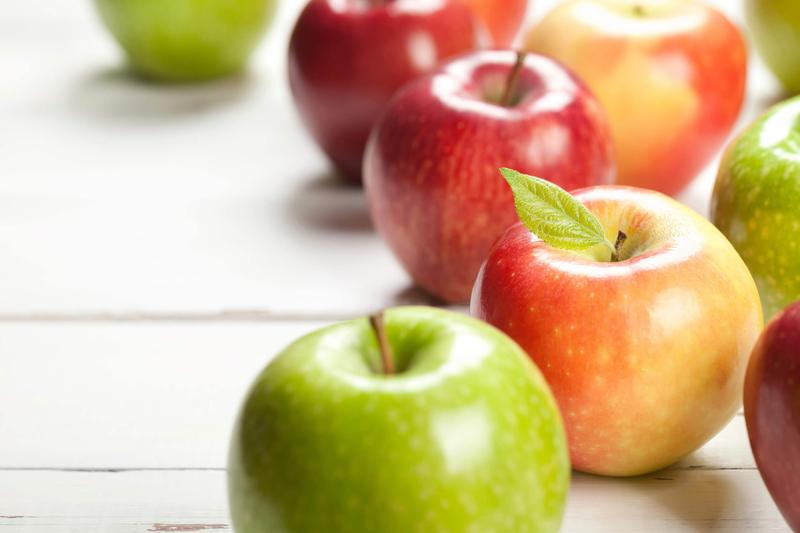apples: (166, 253, 587, 515), (495, 143, 777, 511), (350, 41, 669, 305)
